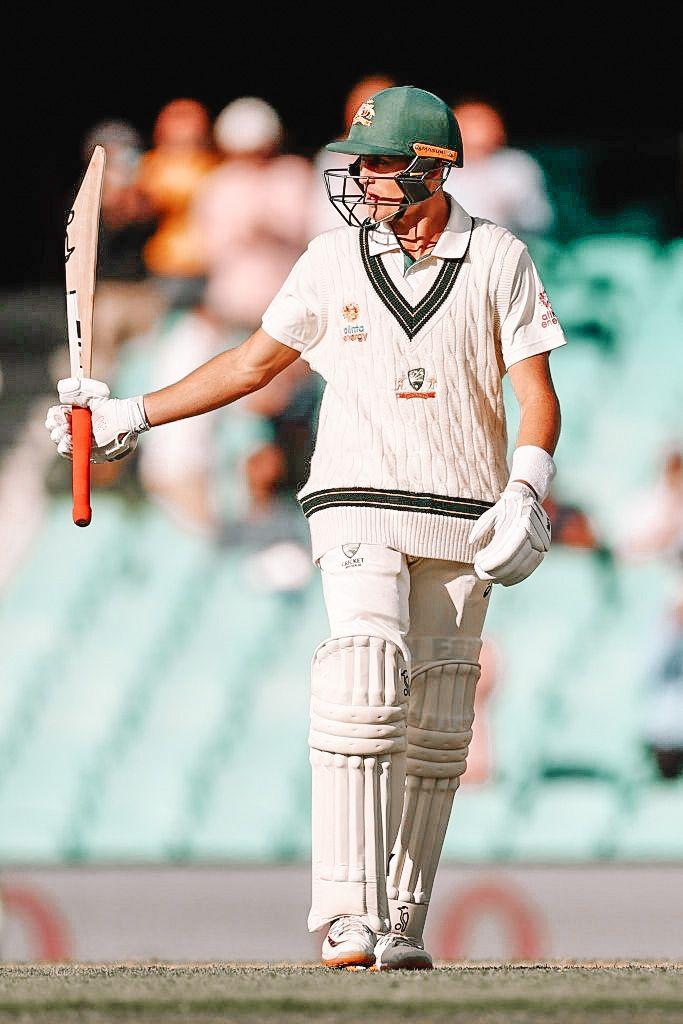batsman: (223, 66, 554, 985)
